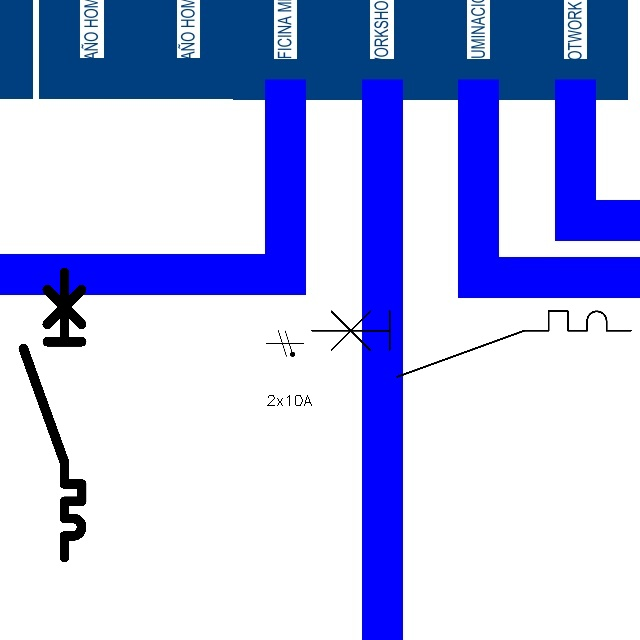interruptor_termomagnetico: (303, 303, 638, 385), (16, 265, 89, 565)
